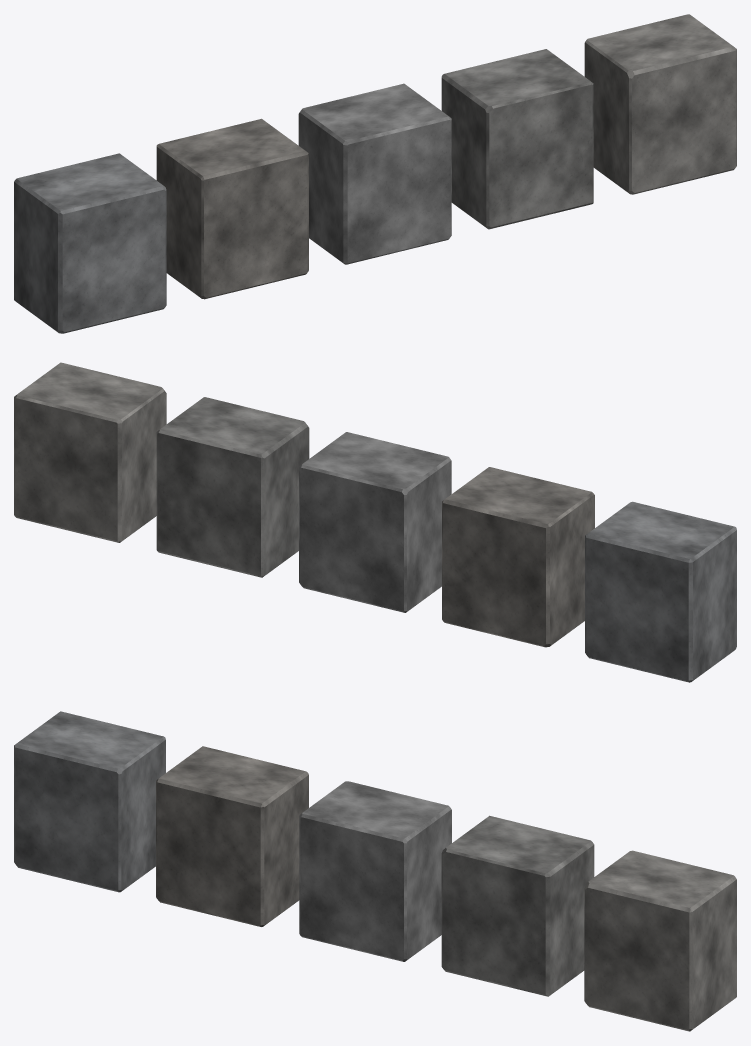
The model's file is kit-comparison.glb.
3 views of the same model, one above another, from view 1: azimuth 30°, elevation 25°; view 2: azimuth 150°, elevation 25°; view 3: azimuth 330°, elevation 25° (orthographic).
Parts seen in each view (by area): view 1: limestone-block-01, limestone-block-05, limestone-block-03, limestone-block-02, limestone-block-04; view 2: limestone-block-01, limestone-block-03, limestone-block-02, limestone-block-04, limestone-block-05; view 3: limestone-block-05, limestone-block-02, limestone-block-04, limestone-block-03, limestone-block-01.
Boxes of the visible parts, bbox=[...] form: limestone-block-01: bbox=[14, 153, 166, 333]; limestone-block-05: bbox=[584, 14, 736, 194]; limestone-block-03: bbox=[298, 83, 451, 264]; limestone-block-02: bbox=[156, 118, 308, 299]; limestone-block-04: bbox=[441, 49, 593, 229]; limestone-block-01: bbox=[585, 501, 736, 682]; limestone-block-03: bbox=[299, 432, 451, 612]; limestone-block-02: bbox=[442, 467, 594, 647]; limestone-block-04: bbox=[156, 397, 309, 577]; limestone-block-05: bbox=[14, 362, 166, 542]; limestone-block-05: bbox=[584, 850, 736, 1031]; limestone-block-02: bbox=[156, 746, 308, 926]; limestone-block-04: bbox=[441, 815, 594, 996]; limestone-block-03: bbox=[299, 781, 451, 961]; limestone-block-01: bbox=[14, 711, 165, 892].
Bounding box in the file's own units: 1.76 × 0.3058 × 0.2123.
5 materials, 5 textured.
